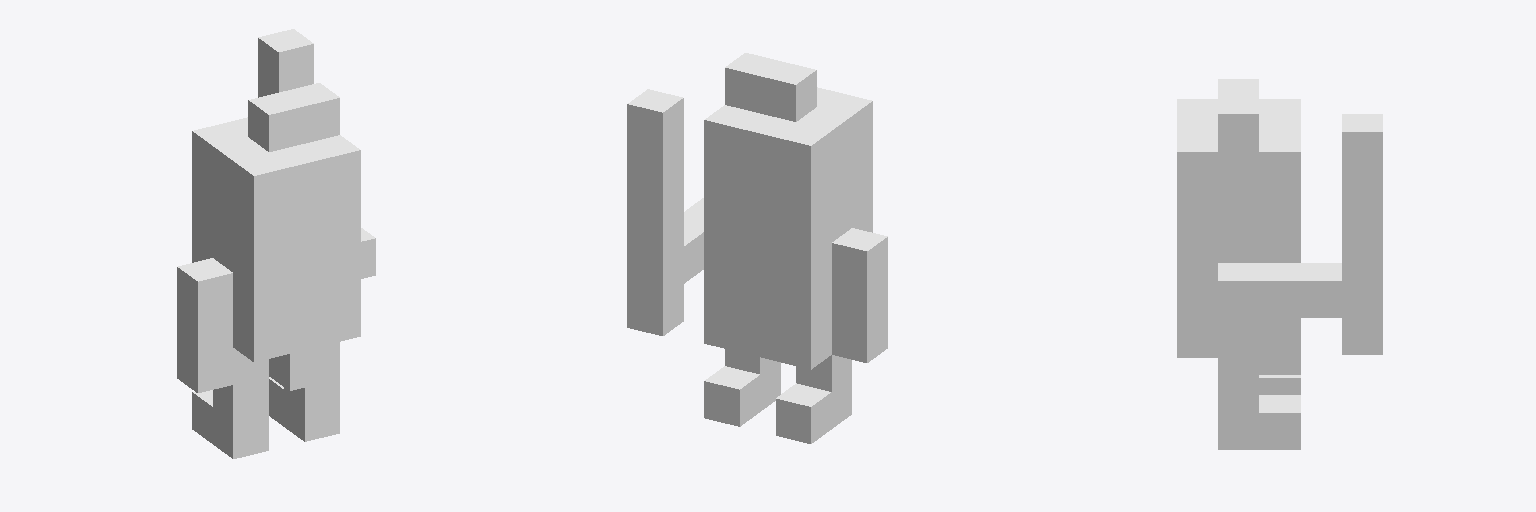
The model's file is TunTunSahur.obj.
The picture shows the model from 3 angles: view 1: azimuth 30°, elevation 25°; view 2: azimuth 150°, elevation 25°; view 3: azimuth 270°, elevation 25°; orthographic projection.
Visible parts, largest first — view 1: GnomeBase; view 2: GnomeBase; view 3: GnomeBase.
Part boxes in pixels (x1,y1,x2,y2): GnomeBase: (177,29,375,458); GnomeBase: (627,53,887,443); GnomeBase: (1177,79,1382,449).
Size of the model in its own units: 0.5 by 0.9 by 0.5.